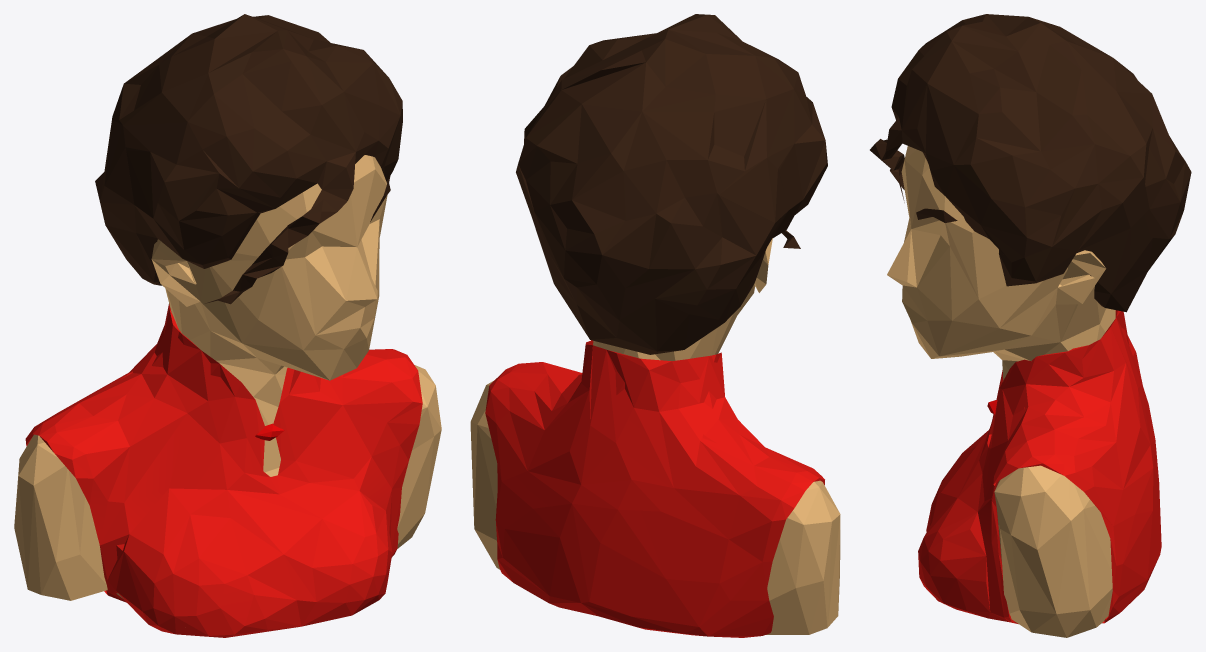
File: huang.glb
The picture shows the model from 3 angles, left to right: view 1: azimuth 30°, elevation 25°; view 2: azimuth 150°, elevation 25°; view 3: azimuth 270°, elevation 25°; orthographic projection. The views are drawn at different scales.
Parts seen in each view (by area): view 1: Extract4, Extract2, FemaleHead1; view 2: Extract2, Extract4, FemaleHead1; view 3: Extract2, FemaleHead1, Extract4.
Boxes of the visible parts, <box> form: Extract4: <box>25,303,422,637</box>; Extract2: <box>95,14,402,304</box>; FemaleHead1: <box>14,155,441,600</box>; Extract2: <box>516,14,827,354</box>; Extract4: <box>485,340,824,637</box>; FemaleHead1: <box>470,238,840,634</box>; Extract2: <box>870,14,1191,312</box>; FemaleHead1: <box>887,146,1115,637</box>; Extract4: <box>918,310,1161,624</box>.
Bounding box in the file's own units: 3.79 × 5.31 × 2.82.
